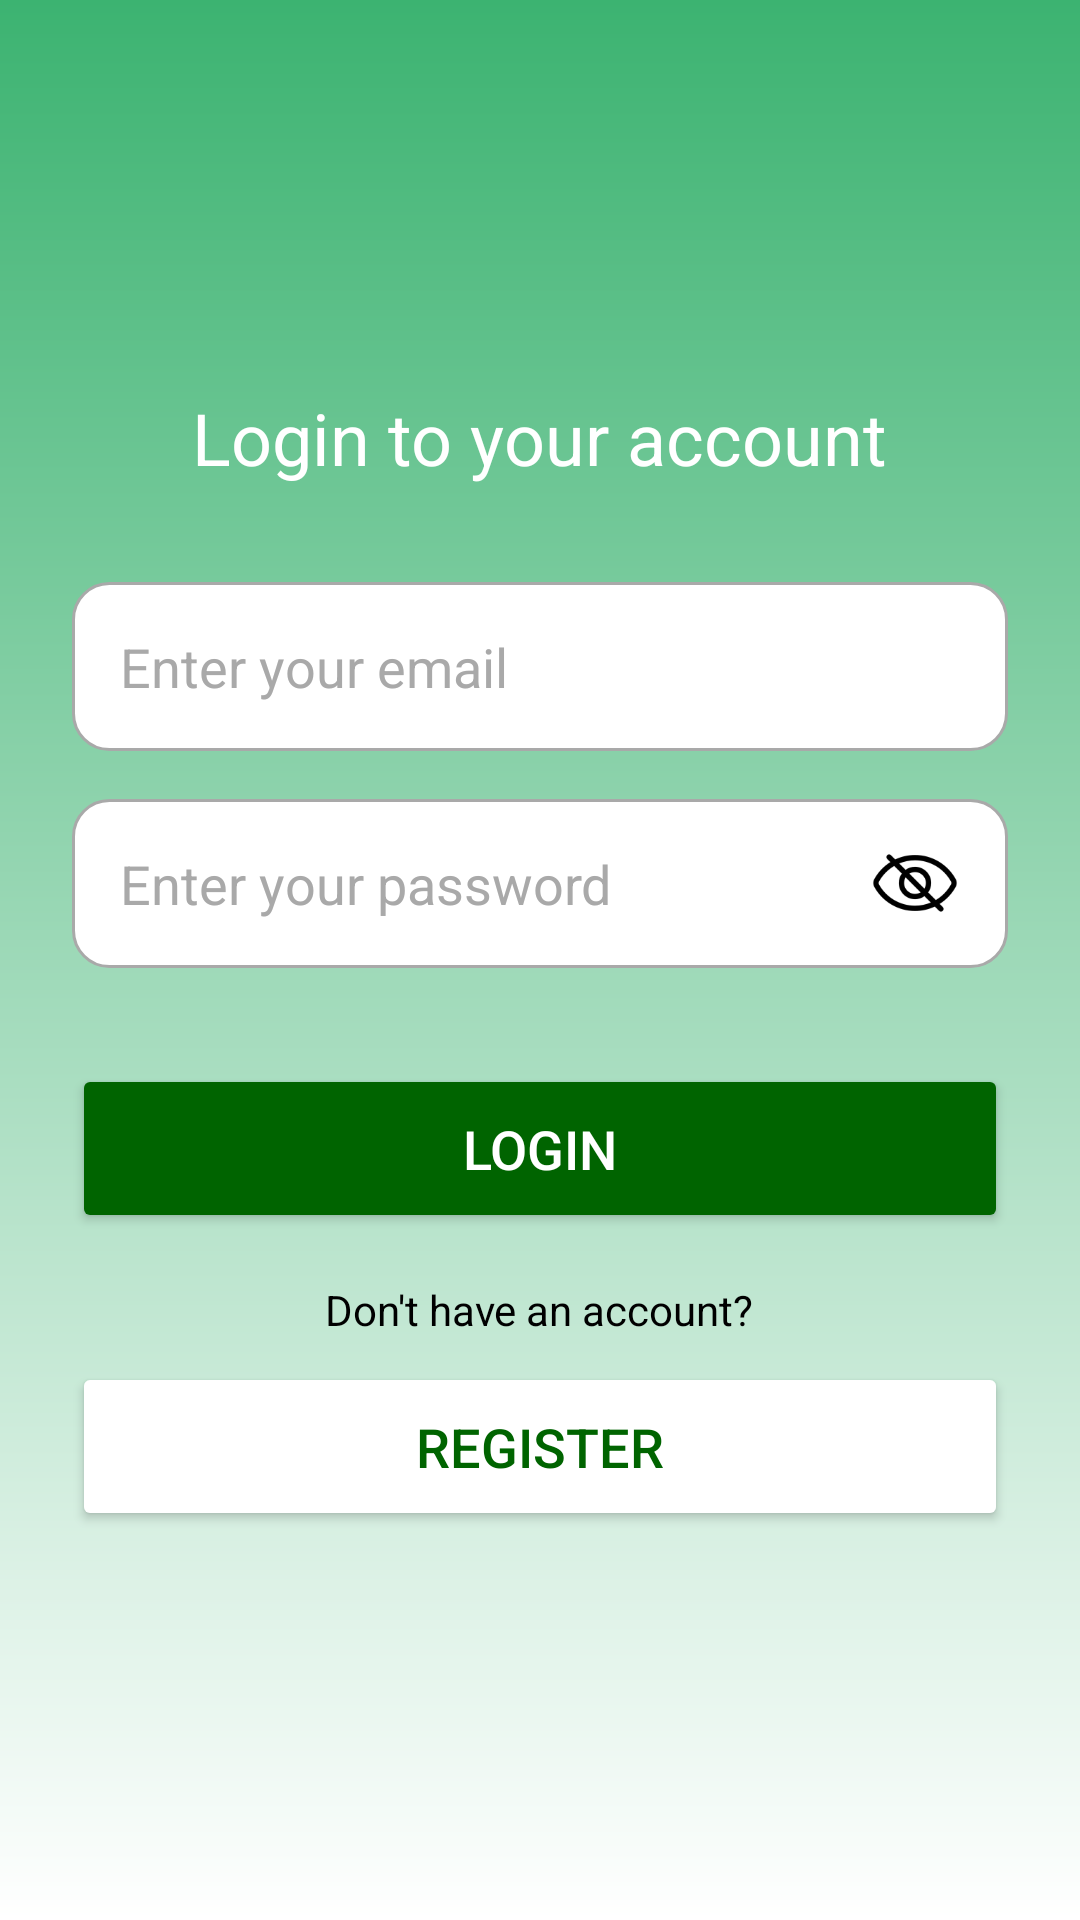

Icon click points for this 1080 x 1920 phone screenshot, format point (x, y):
Toggle Password Visibility: point (915, 883)
